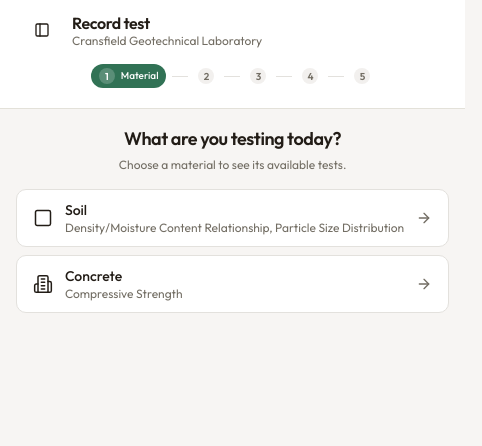
Test case: RecordTestWizard selection flow › requires selecting an available test before Continue advances
Click the button "Soil".
click(233, 218)  # box [16,189,449,247]
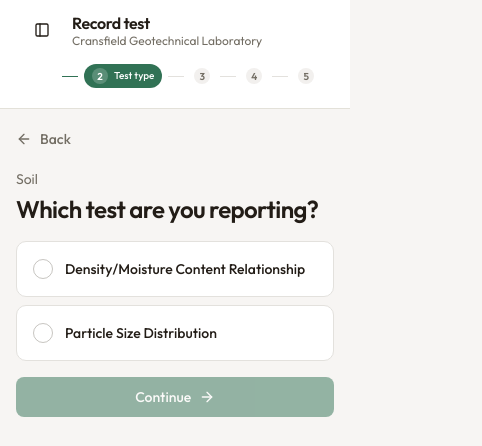
Now the button "Continue" is disabled, box [16,377,334,417]
Click the button "Density/Moisture Content Relationship".
click(175, 269)  # box [16,241,334,297]
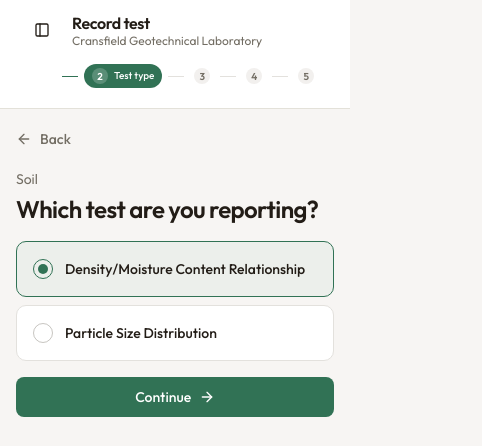
Now the heading "Which test are you reporting?" is shown, box [16,193,334,225]
Now the button "Continue" is enabled
Click the button "Continue".
click(175, 397)  # box [16,377,334,417]
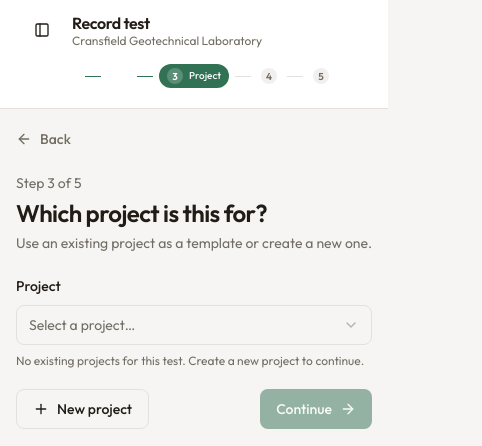
Now the dropdown labelled "project" is shown, box [16,305,372,345]
